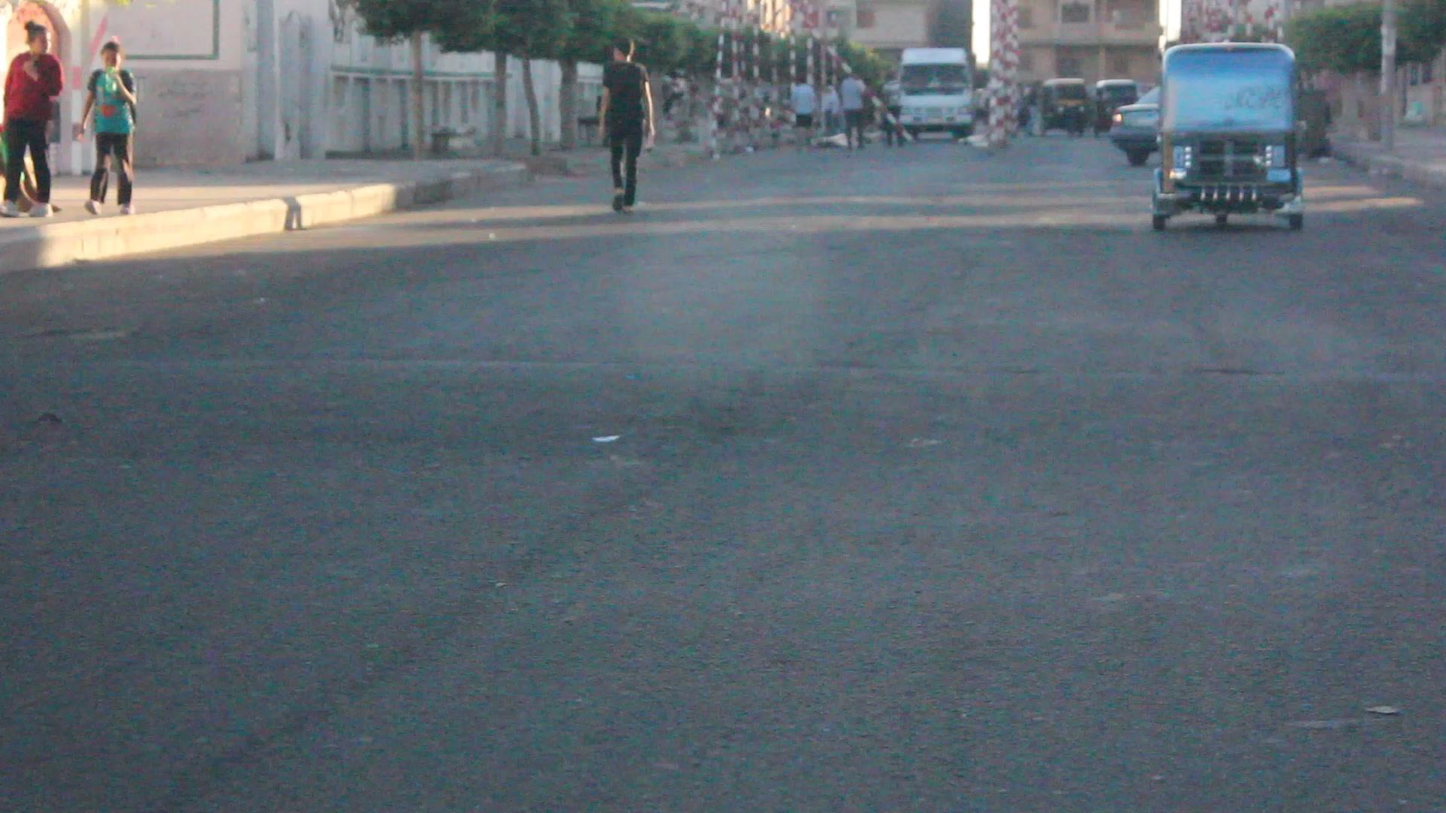Bump: (0, 334, 1445, 487)
